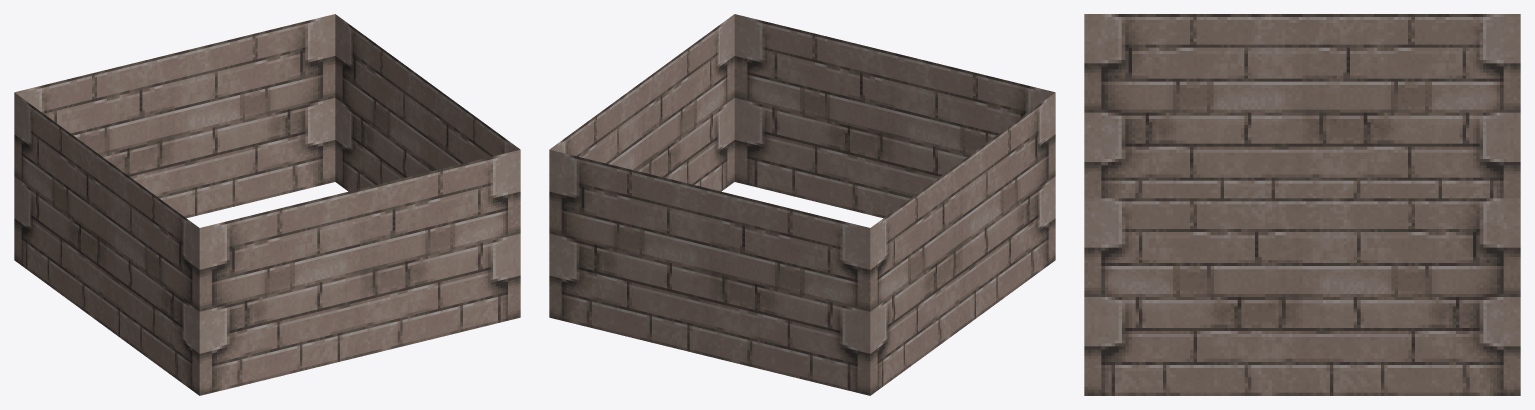
Rendered from stone_square_half_1m.glb.
The picture shows the model from 3 angles, left to right: view 1: azimuth 30°, elevation 25°; view 2: azimuth 150°, elevation 25°; view 3: azimuth 270°, elevation 25°; orthographic projection. The views are drawn at different scales.
Parts seen in each view (by area): view 1: stone_square_half_1m; view 2: stone_square_half_1m; view 3: stone_square_half_1m.
Part boxes in pixels (<box>): stone_square_half_1m: <box>14,14,520,395</box>; stone_square_half_1m: <box>549,14,1055,395</box>; stone_square_half_1m: <box>1084,14,1520,395</box>.
Size of the model in its own units: 2 by 1 by 2.
1 material, 1 textured.
